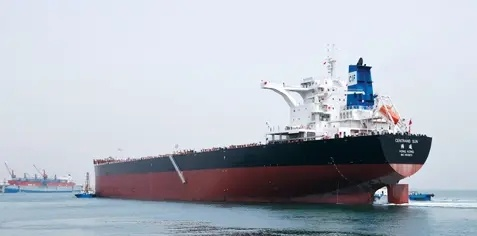Cargoship: (87, 52, 428, 206), (2, 171, 73, 196)
otherboat: (402, 186, 435, 206), (75, 178, 97, 197)
